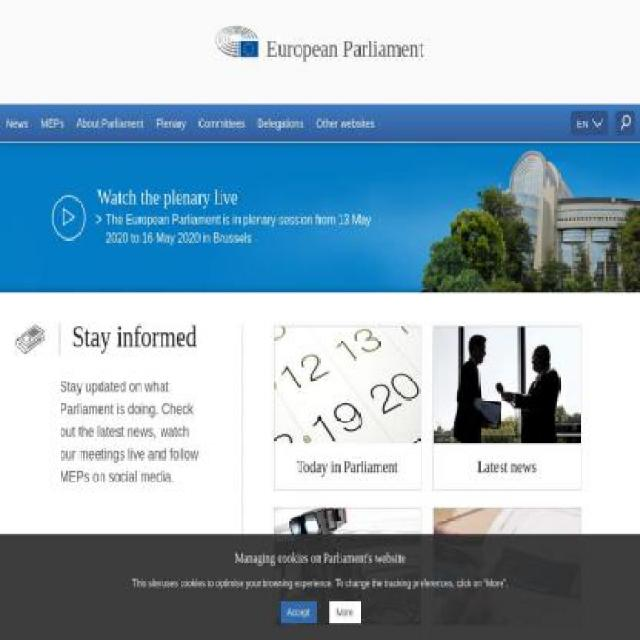button: (0, 142, 640, 293), (273, 326, 422, 491), (433, 326, 581, 491), (432, 507, 582, 639), (273, 507, 422, 639), (70, 104, 150, 142), (309, 104, 382, 142), (192, 104, 252, 142), (250, 104, 310, 142), (150, 104, 192, 142), (34, 104, 71, 142), (0, 103, 35, 142), (279, 602, 318, 623), (328, 602, 361, 623)
field: (577, 117, 589, 129)
